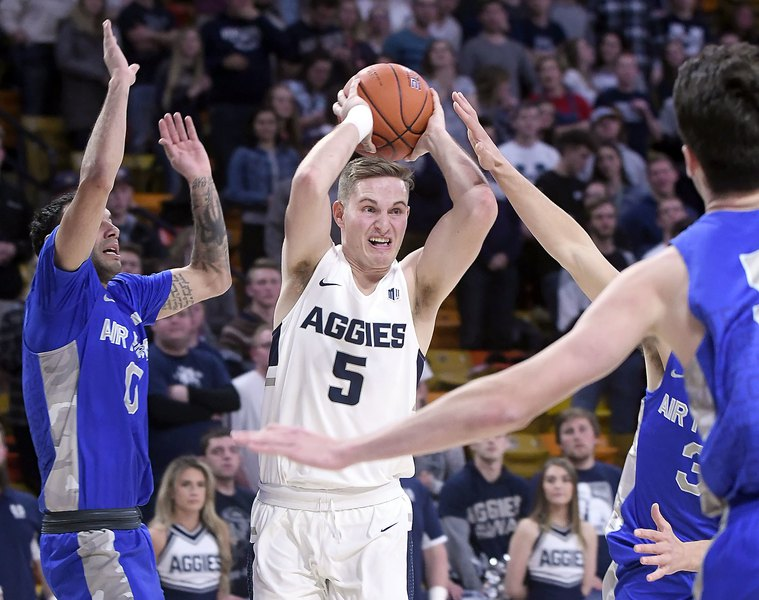ball: (330, 58, 448, 171)
defense: (8, 12, 240, 600)
pass: (257, 53, 493, 600)
